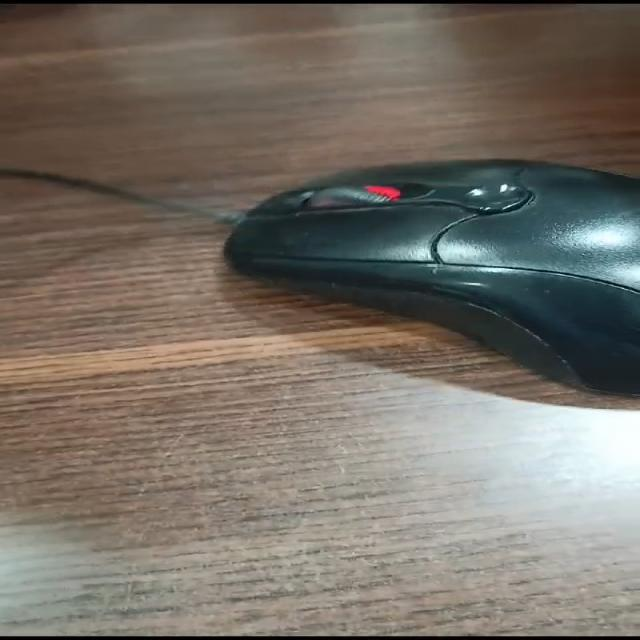mouse: (166, 108, 640, 434)
